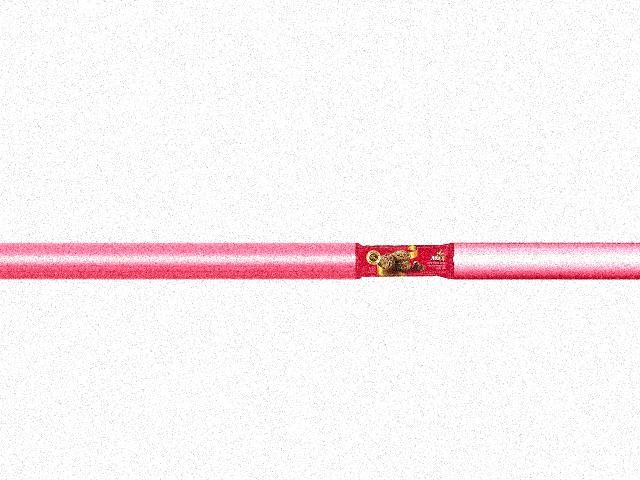chocolate: (357, 244, 455, 282)
